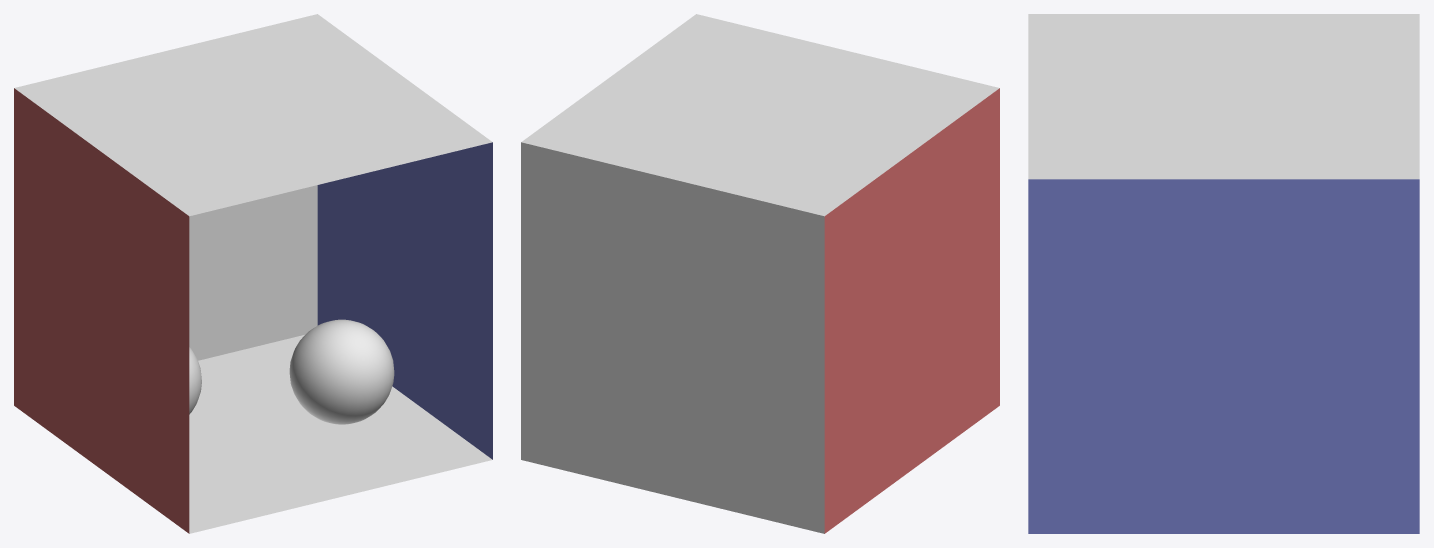
Rendered from CornellBoxSphereLighten.fbx.
3 renders of one model, left to right at view 1: azimuth 30°, elevation 25°; view 2: azimuth 150°, elevation 25°; view 3: azimuth 270°, elevation 25°, orthographic. The views are drawn at different scales.
Parts seen in each view (by area): view 1: Cube, Sphere.001, Sphere; view 2: Cube; view 3: Cube.
Part boxes in pixels (left/top/right/bottom): Cube: left=14, top=14, right=492, bottom=533; Sphere.001: left=289, top=319, right=394, bottom=424; Sphere: left=189, top=347, right=201, bottom=414; Cube: left=521, top=14, right=999, bottom=533; Cube: left=1028, top=14, right=1419, bottom=533.
Size of the model in its own units: 2 by 2 by 2.
